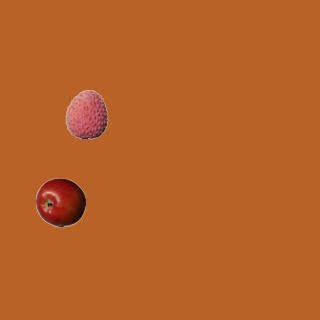Apple Braeburn: (35, 177, 85, 227)
Lychee: (61, 89, 111, 139)
